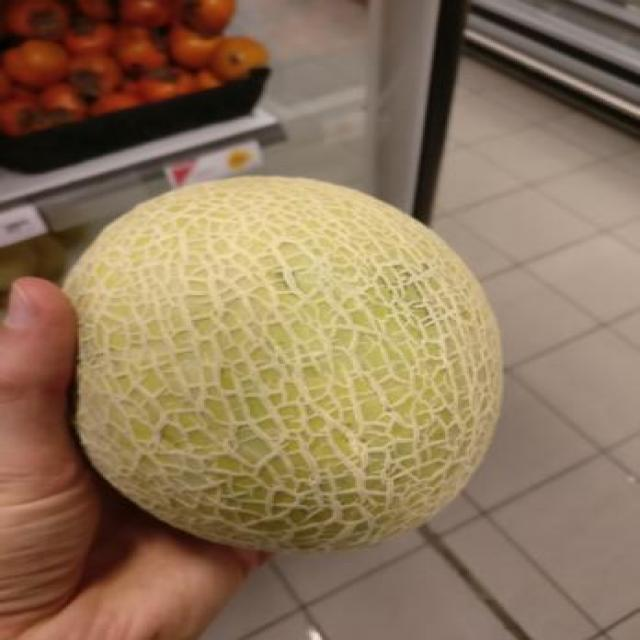Cantaloupe: (64, 176, 510, 554)
